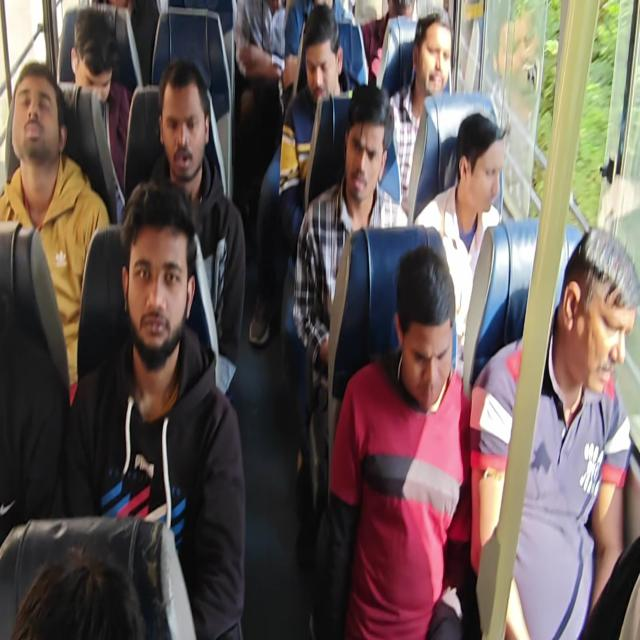person: (566, 236, 638, 414), (383, 287, 475, 413), (118, 231, 196, 372), (448, 127, 508, 223), (153, 76, 211, 165), (8, 75, 63, 166), (337, 102, 383, 206), (75, 17, 121, 106), (409, 14, 459, 93), (298, 28, 335, 108), (373, 0, 416, 44)
